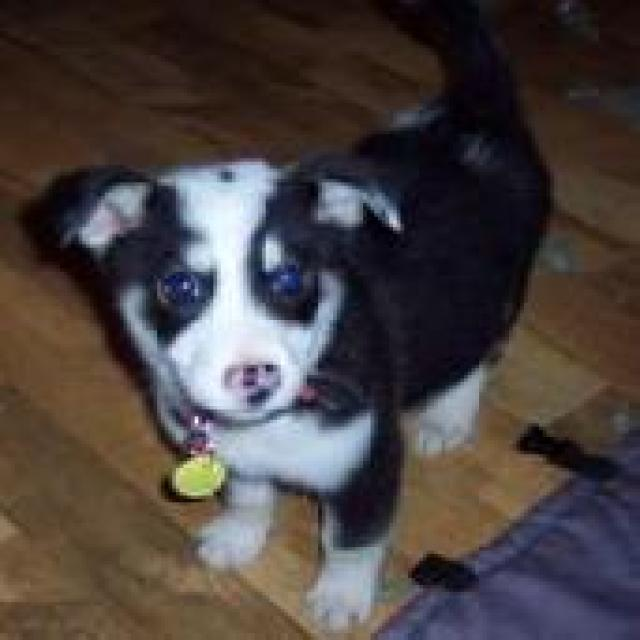dogs: (41, 3, 555, 636)
